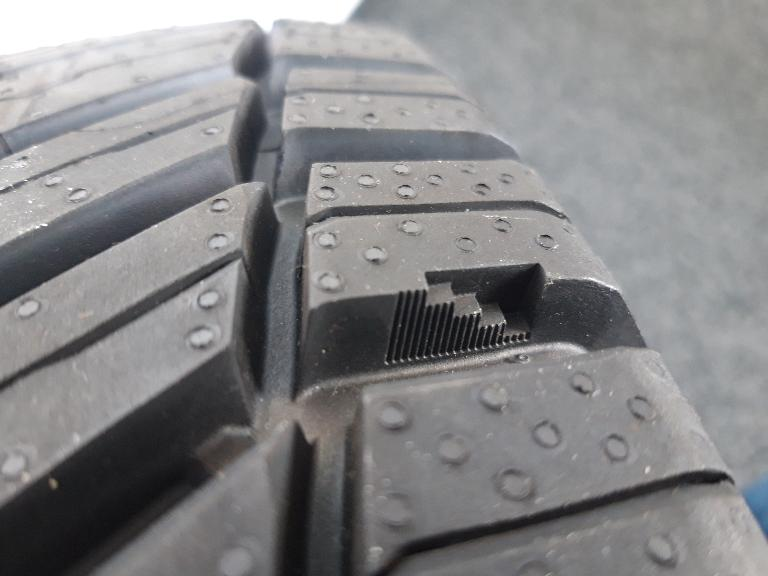temoin:100: (378, 257, 556, 371)
